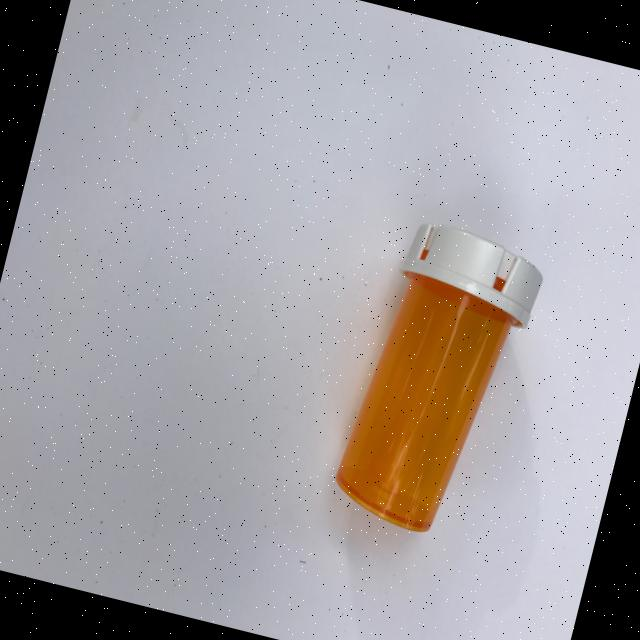plastic: (326, 212, 550, 546)
